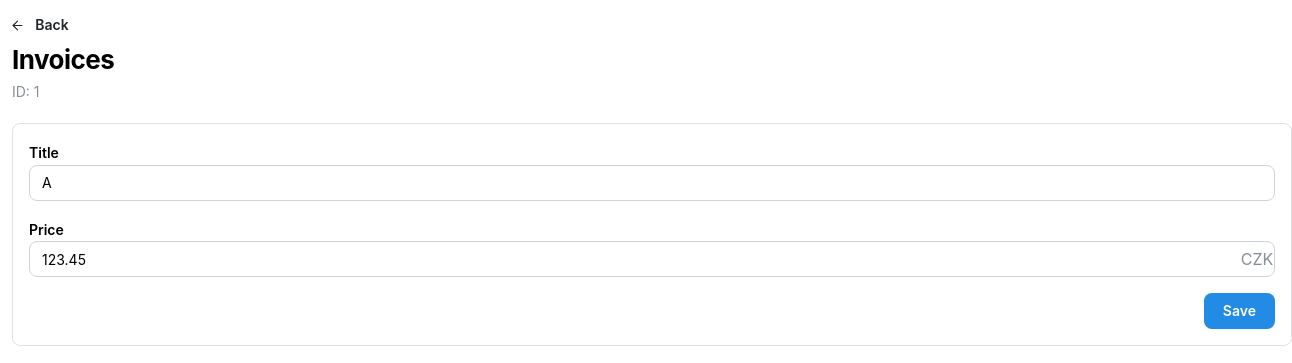
Test: a MONEY field on an editable form › re-seeds from a save response that stored something else
Replace the text in the field showing "123.45" with "200,5" at (652, 259), box [29,241,1275,277]
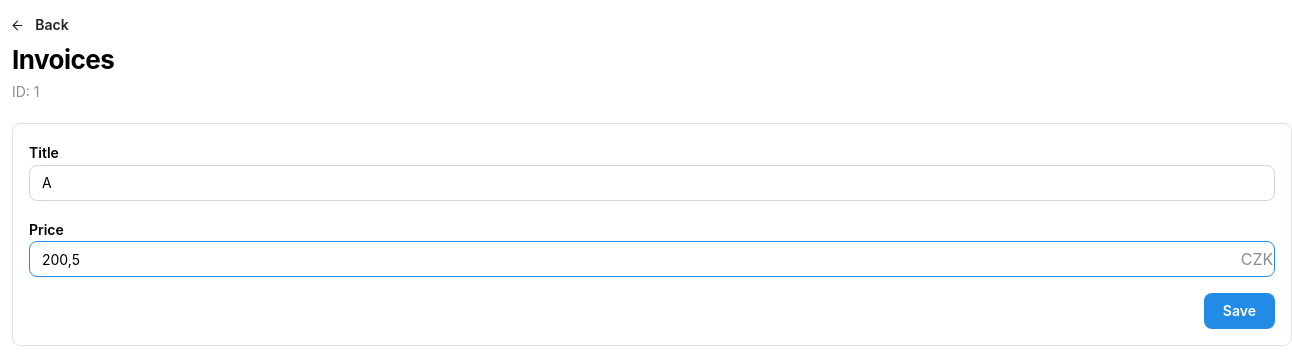
Click the button "Save" at (1239, 311), box [1204,293,1275,329]
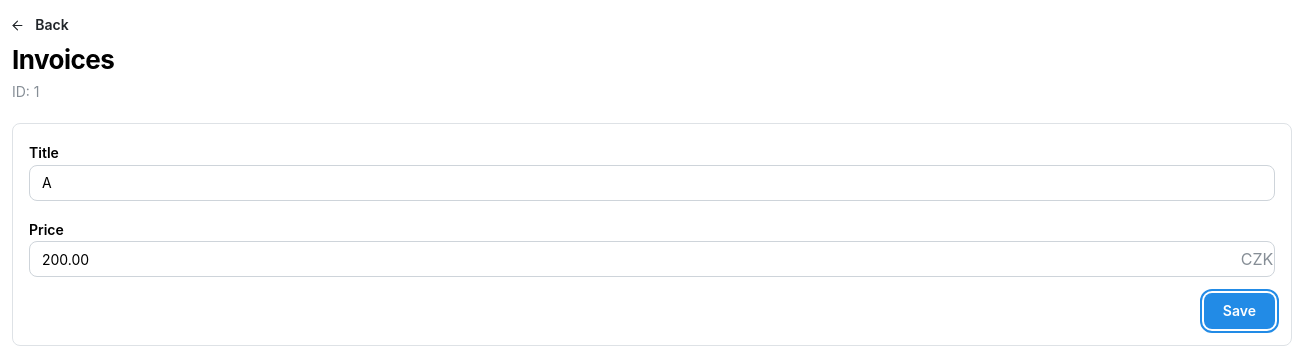
expect the field showing "200.00" is shown: met, box [29,241,1275,277]
